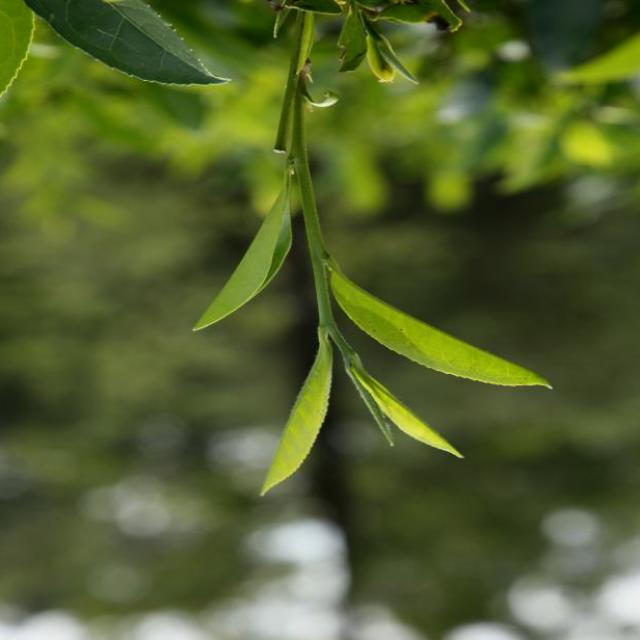Stem: (317, 313, 334, 334)
